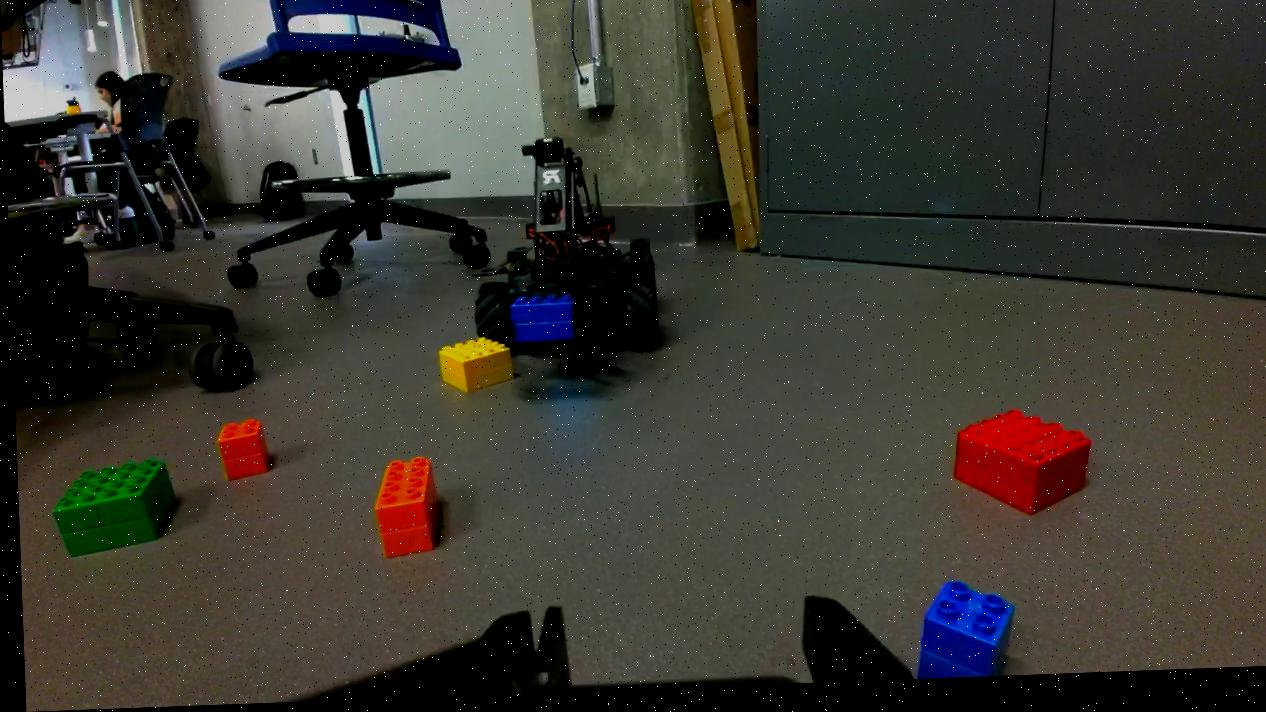2x2lego: (213, 420, 267, 484)
2x4lego: (368, 460, 438, 562)
4x4lego: (947, 411, 1090, 526), (48, 456, 174, 559), (434, 339, 512, 398)
